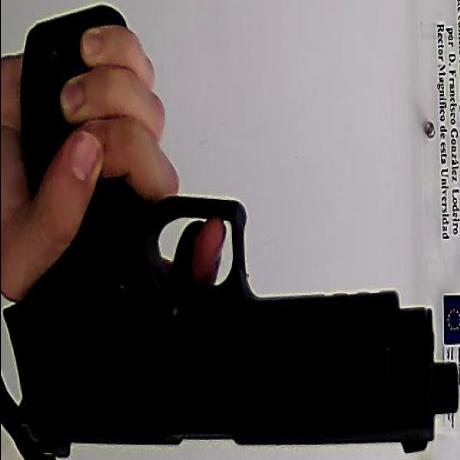1: (0, 0, 231, 303)
weapon: (30, 109, 460, 455)
